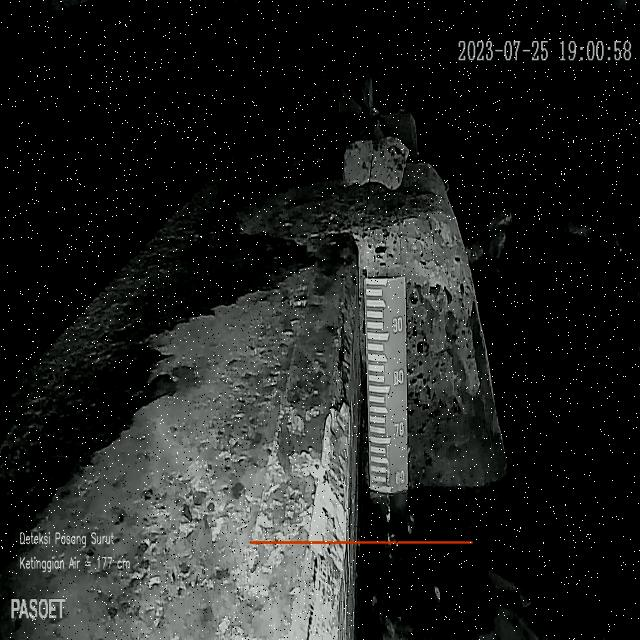60: (394, 468, 406, 486)
70: (393, 420, 405, 439)
80: (392, 368, 404, 387)
90: (391, 314, 404, 335)
staff: (364, 276, 408, 493)
